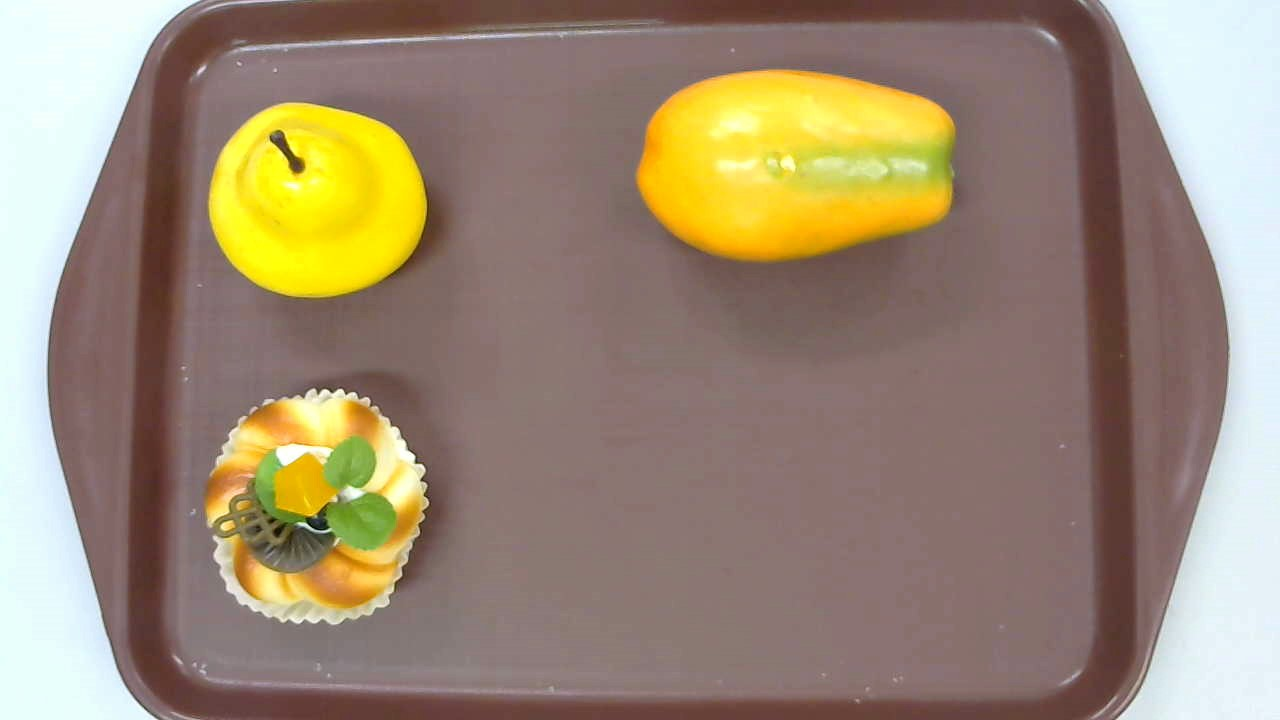fruit tart: (200, 388, 429, 628)
papya: (636, 68, 957, 264)
yellow pear: (207, 103, 428, 301)
